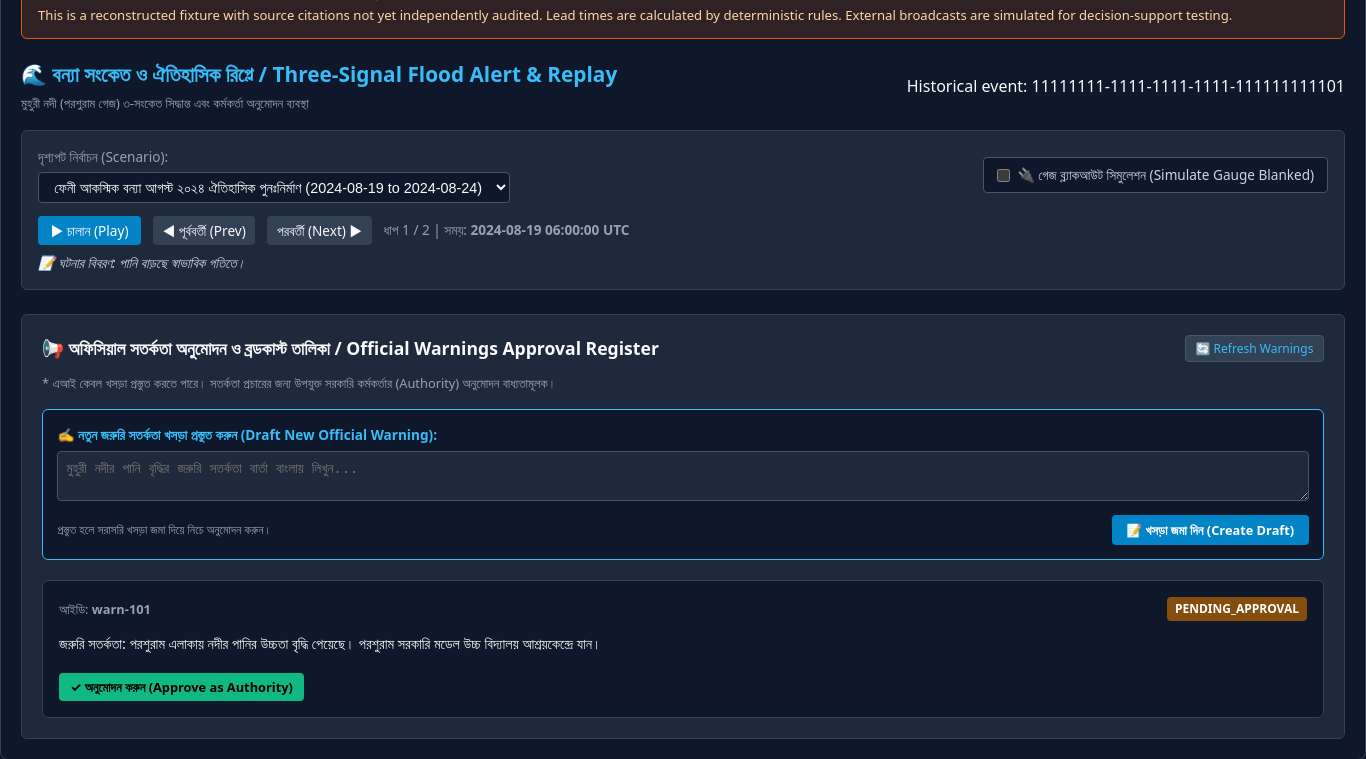
Test case: FloodReplayWarning Component › requires authority role for warning approval
The image size is (1366, 759).
(page scrolled)
Click the button "✓ অনুমোদন করুন (Approve as Authority)".
click(182, 687)  # box [59, 673, 304, 701]
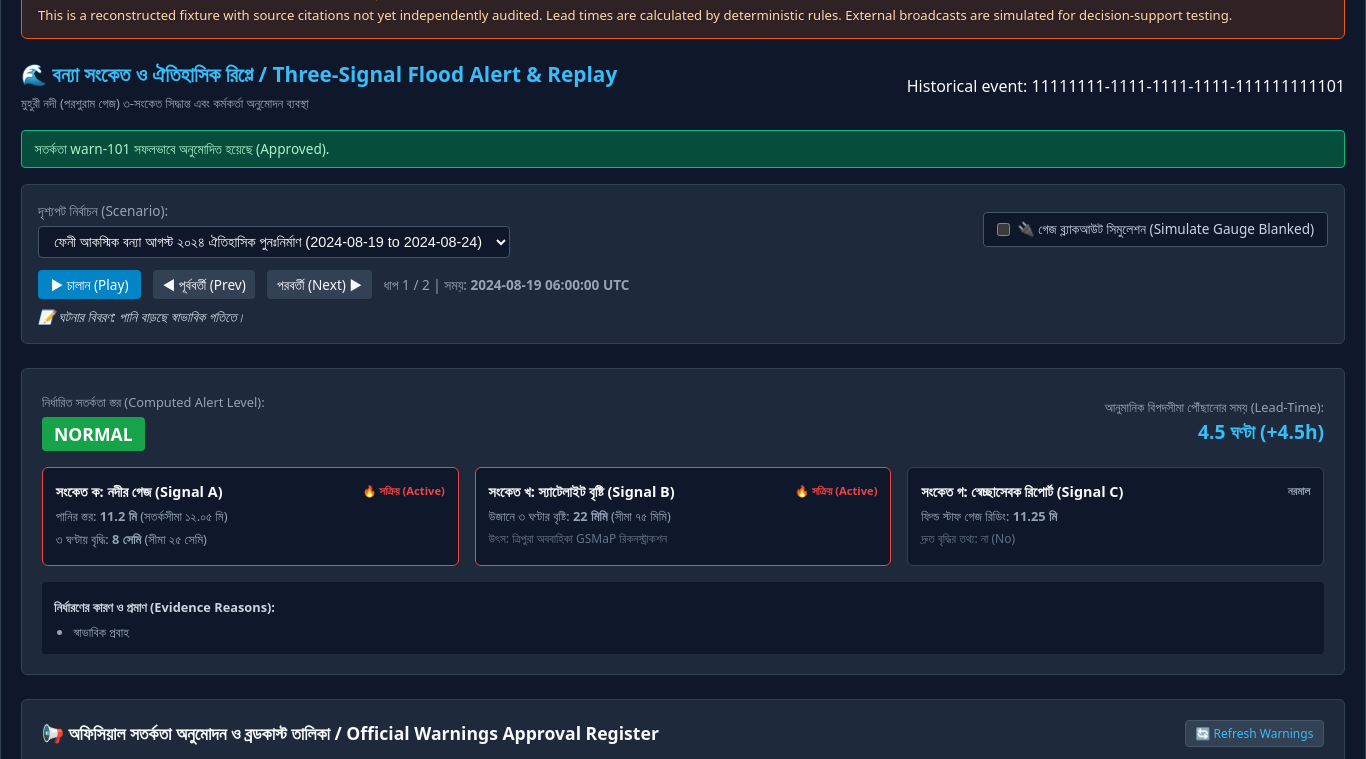
Now the text "সতর্কতা warn-101 সফলভাবে অনুমোদিত হয়েছে (Approved)." is shown, box [21, 130, 1345, 168]
